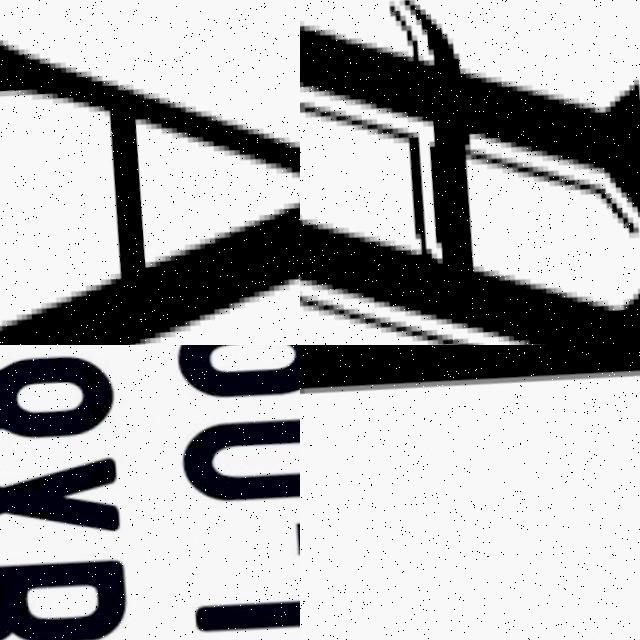6: (167, 345, 300, 408)
8: (0, 345, 125, 452)
A: (0, 0, 300, 345)
B: (0, 543, 137, 640)
H: (300, 0, 640, 345)
I: (300, 345, 640, 396)
T: (190, 548, 300, 640)
U: (177, 395, 300, 513)
X: (0, 443, 124, 553)
